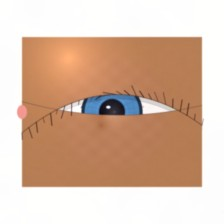pterygium_lesion: (152, 92, 202, 132)
